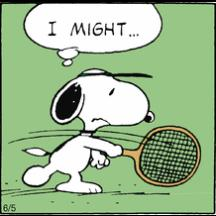snoopy: (21, 67, 201, 193)
